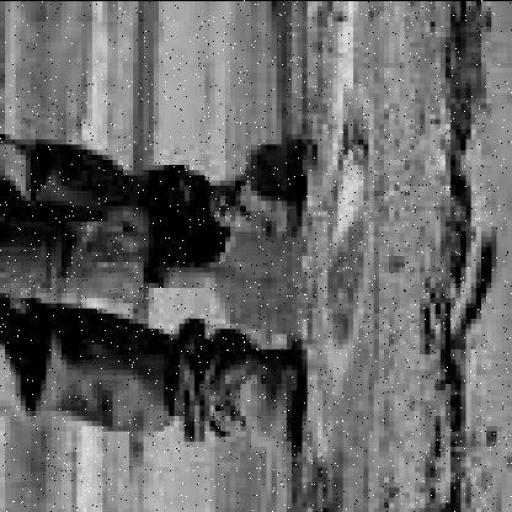safety_shoe: (198, 344, 305, 456), (210, 144, 306, 240)
